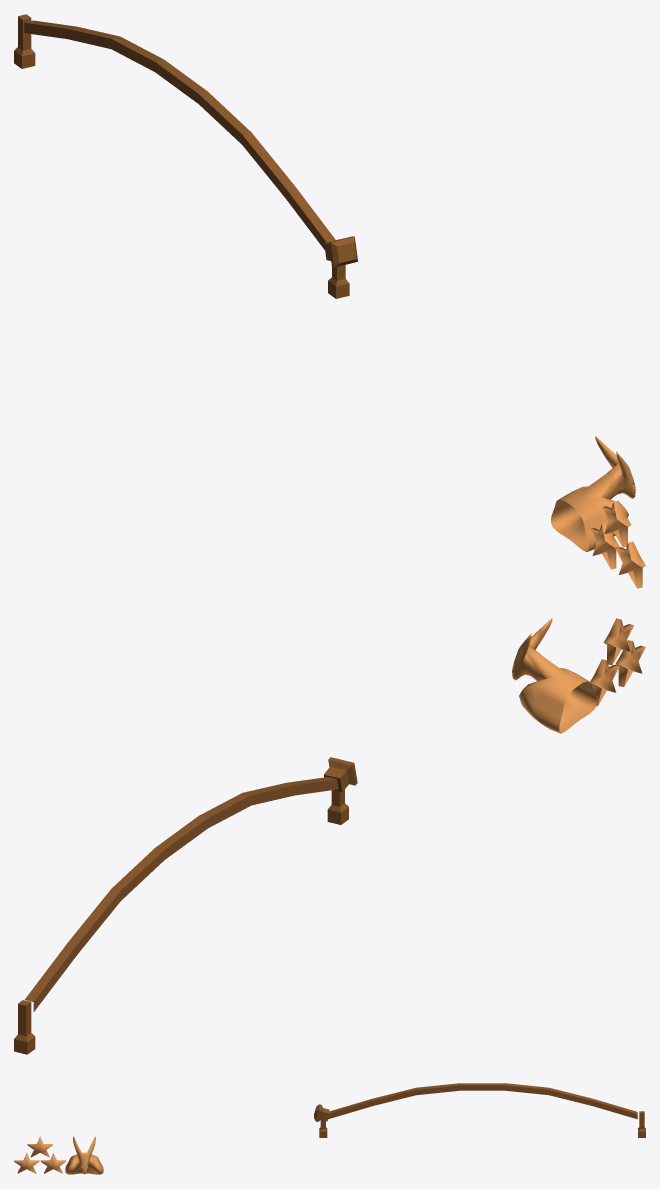
File: Demo Ornaments.glb
The picture shows the model from 3 angles, top to bottom: view 1: azimuth 30°, elevation 25°; view 2: azimuth 150°, elevation 25°; view 3: azimuth 270°, elevation 25°; orthographic projection. The views are drawn at different scales.
Parts seen in each view (by area): view 1: Bridge Ground, Cube, Cube.001; view 2: Bridge Ground, Cube, Cube.001; view 3: Bridge Ground, Cube, Cube.001.
Part boxes in pixels (box(x1,y1,x2,y2)): Bridge Ground: box(14, 14, 357, 298); Cube: box(551, 436, 635, 552); Cube.001: box(589, 500, 645, 588); Bridge Ground: box(14, 757, 357, 1054); Cube: box(512, 617, 596, 733); Cube.001: box(590, 618, 645, 706); Bridge Ground: box(314, 1083, 645, 1137); Cube: box(65, 1136, 103, 1174); Cube.001: box(14, 1136, 66, 1173).
Size of the model in its own units: 1.91 by 4.44 by 28.56.
